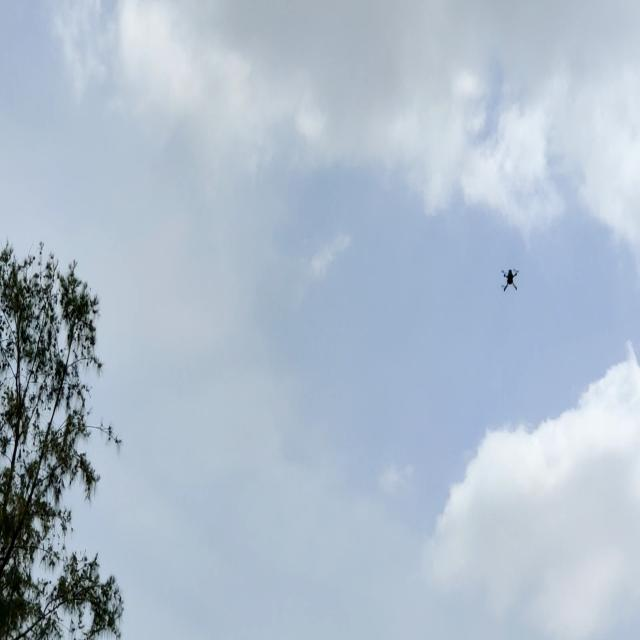drone: (499, 266, 525, 294)
